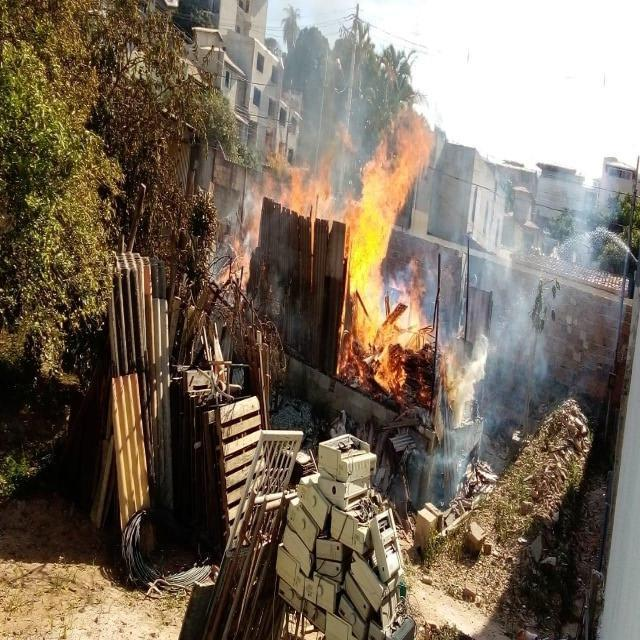Fire: (216, 109, 432, 405)
Smoke: (382, 193, 594, 509), (290, 54, 365, 203), (208, 188, 258, 277)
